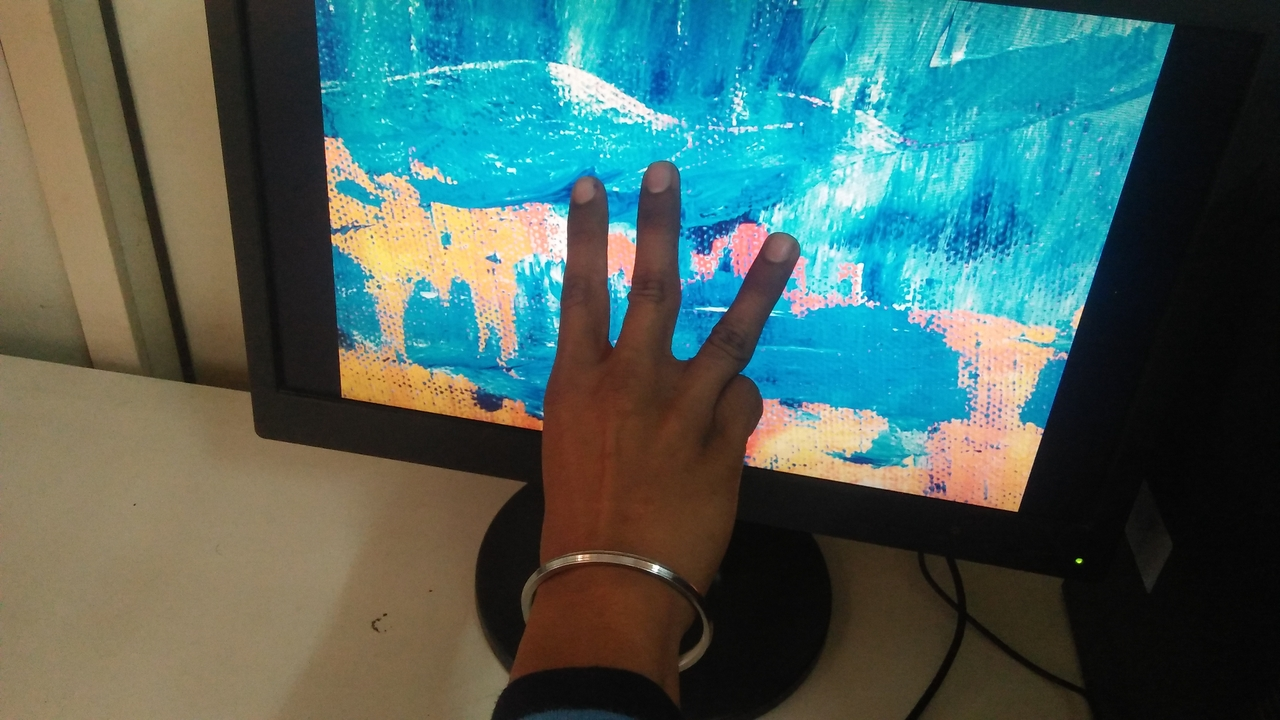fingertip: (748, 222, 808, 276), (632, 152, 686, 200), (560, 164, 612, 210)
